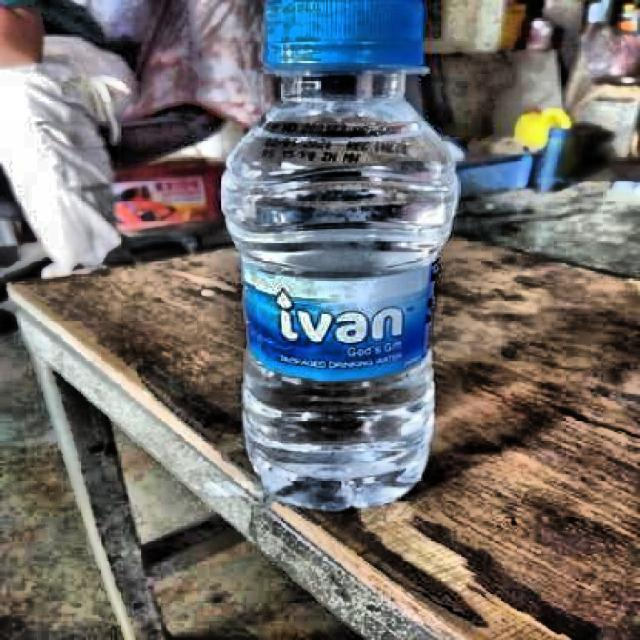Bottles: (181, 0, 466, 522)
